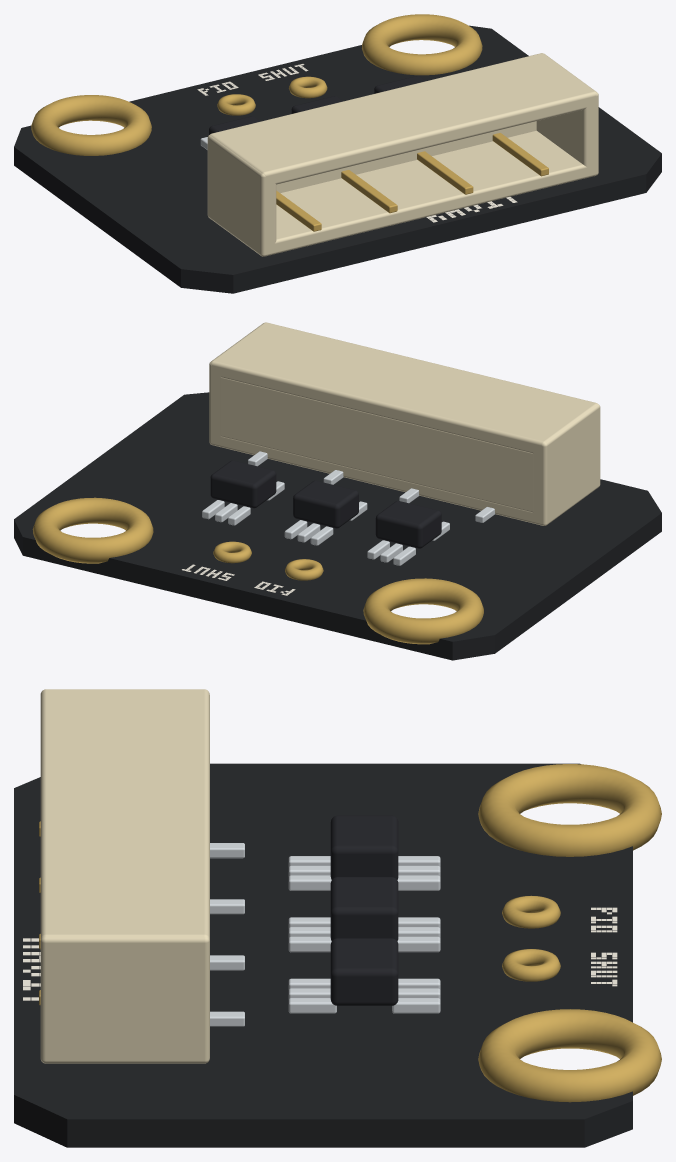
Rendered from sensors-10.glb.
3 views of the same model, one above another, from view 1: azimuth 30°, elevation 25°; view 2: azimuth 150°, elevation 25°; view 3: azimuth 270°, elevation 25° (orthographic). The views are drawn at different scales.
Visible parts, largest first — view 1: ports, pcb, mounts, pins, supports; view 2: pcb, ports, mounts, supports, pins; view 3: pcb, ports, mounts, supports, pins.
Boxes of the visible parts, x1,y1,x2,y2 form: ports: (207, 53, 598, 256); pcb: (14, 25, 661, 293); mounts: (31, 14, 482, 155); pins: (217, 76, 327, 115); supports: (200, 76, 425, 149); pcb: (14, 392, 661, 660); ports: (209, 322, 600, 525); mounts: (32, 497, 483, 644); supports: (202, 460, 449, 565); pins: (213, 541, 323, 580); pcb: (14, 763, 632, 1147); ports: (39, 689, 244, 1063); mounts: (478, 764, 661, 1102); supports: (288, 815, 440, 1013); pins: (502, 895, 560, 981).
Size of the model in its own units: 1.74 by 0.48 by 1.34.
